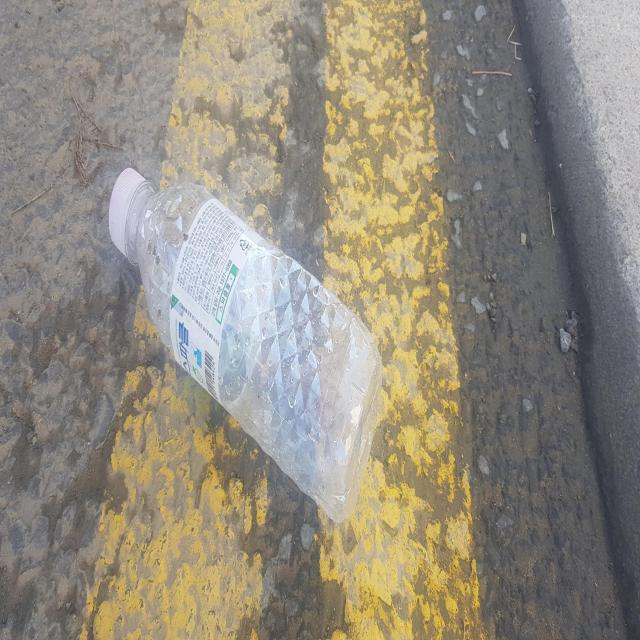plastic: (108, 167, 382, 521)
